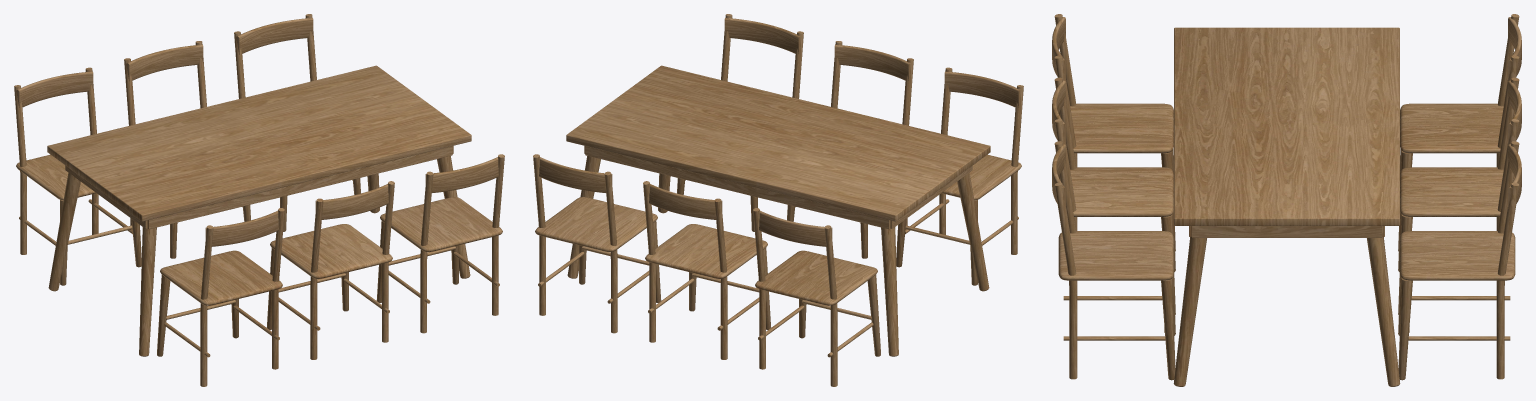
The model's file is set_comedor_rectangular_6.glb.
3 views of the same model, side by side, from view 1: azimuth 30°, elevation 25°; view 2: azimuth 150°, elevation 25°; view 3: azimuth 270°, elevation 25° (orthographic). The views are drawn at different scales.
Parts seen in each view (by area): view 1: set_comedor_rectangular_6; view 2: set_comedor_rectangular_6; view 3: set_comedor_rectangular_6.
Boxes of the visible parts, <box> form: set_comedor_rectangular_6: <box>14,14,504,386</box>; set_comedor_rectangular_6: <box>533,14,1023,386</box>; set_comedor_rectangular_6: <box>1052,14,1521,386</box>.
Size of the model in its own units: 1.8 by 0.8525 by 1.87.
Materials: 1 (1 with a texture image).
